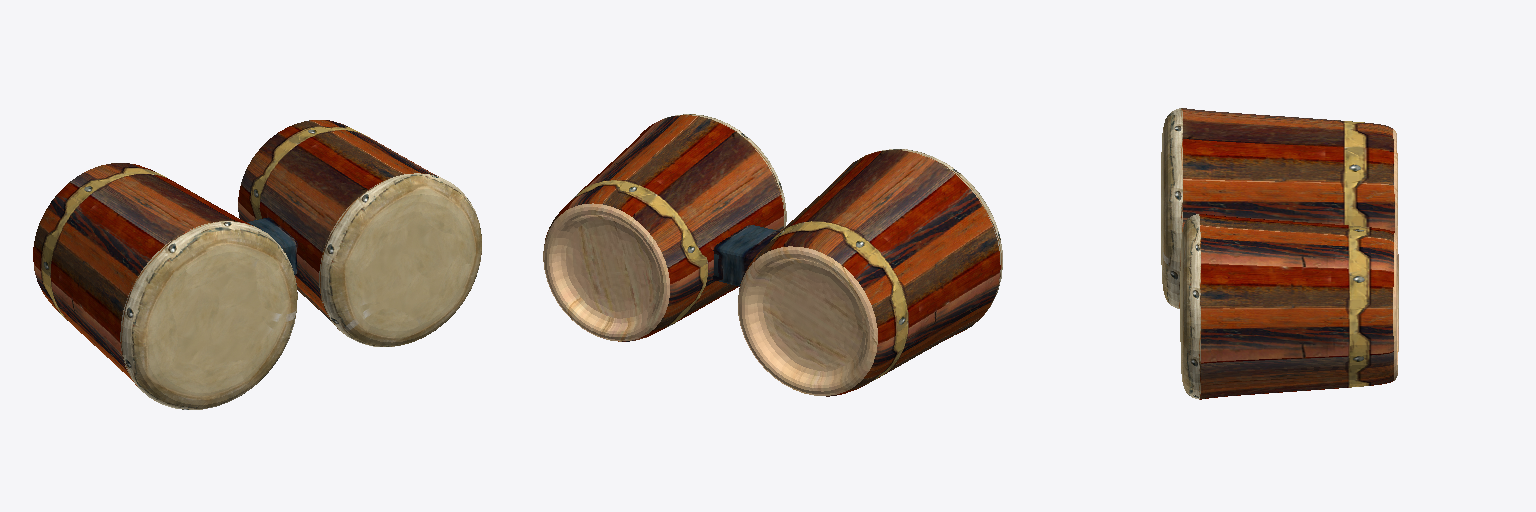
The picture shows the model from 3 angles: view 1: azimuth 30°, elevation 25°; view 2: azimuth 150°, elevation 25°; view 3: azimuth 270°, elevation 25°; orthographic projection.
Parts seen in each view (by area): view 1: 10370_Bongo_v01; view 2: 10370_Bongo_v01; view 3: 10370_Bongo_v01.
Part boxes in pixels (bbox=[...]): 10370_Bongo_v01: bbox=[33, 120, 481, 409]; 10370_Bongo_v01: bbox=[543, 114, 1002, 396]; 10370_Bongo_v01: bbox=[1161, 108, 1398, 399].
Size of the model in its own units: 394 by 187 by 220.
Materials: 1 (1 with a texture image).